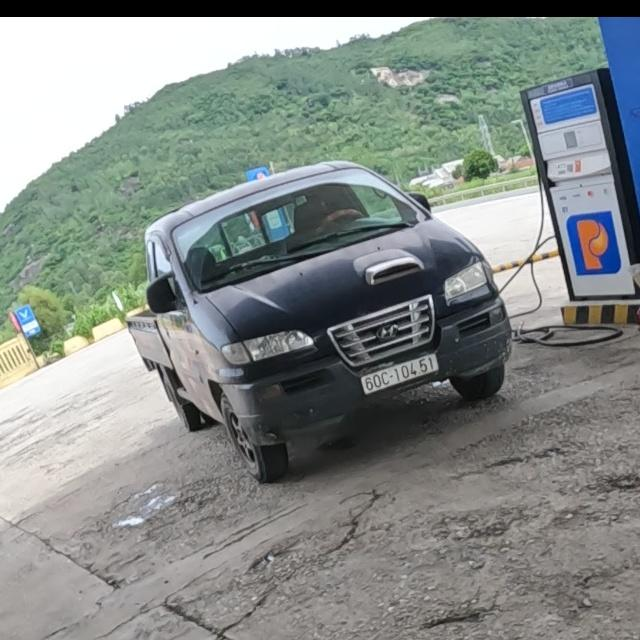license-plate: (360, 353, 439, 395)
